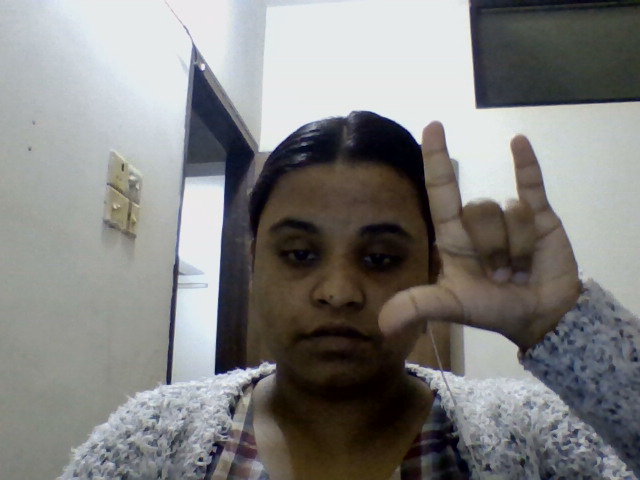I Love You: (349, 94, 622, 392)
